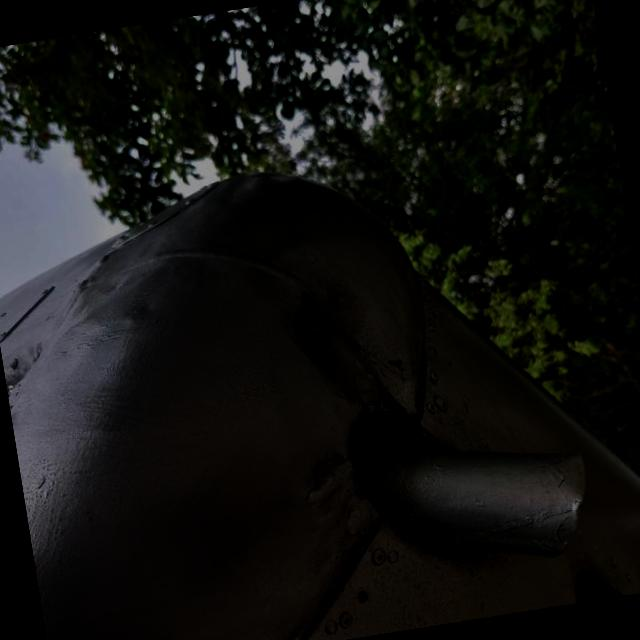dent: (245, 213, 442, 386), (436, 270, 526, 360)
